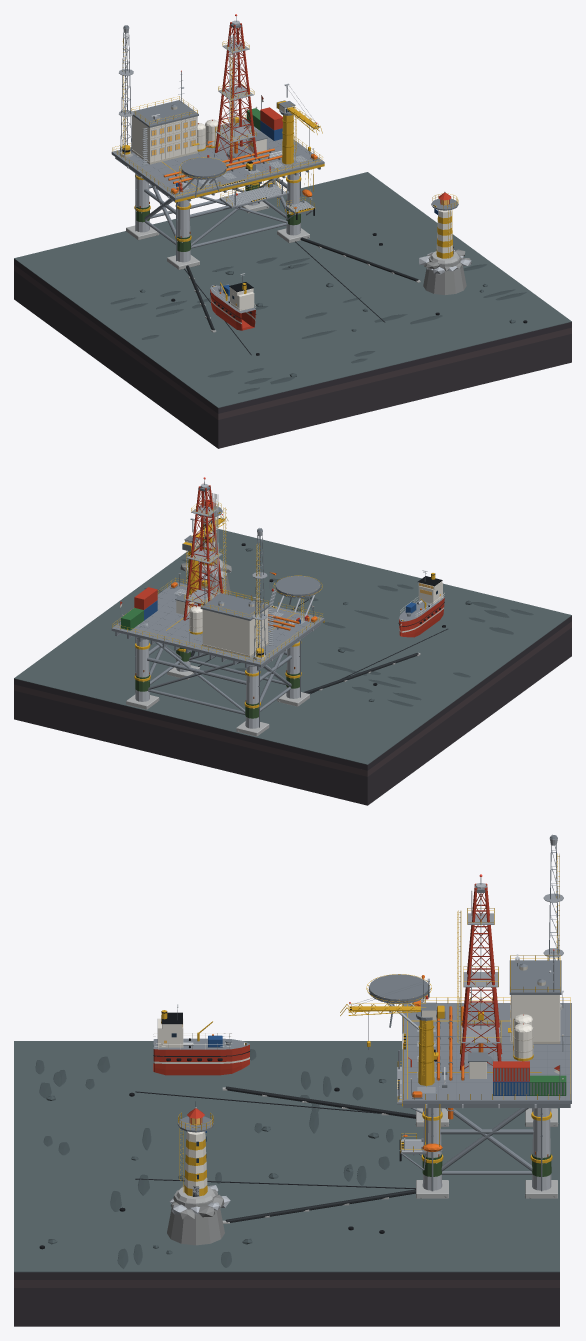
The model's file is Loc_Rig.fbx.
3 views of the same model, one above another, from view 1: azimuth 30°, elevation 25°; view 2: azimuth 150°, elevation 25°; view 3: azimuth 270°, elevation 25° (orthographic). The views are drawn at different scales.
Visible parts, largest first — view 1: Seabed, BlockRock, SteelDark, Deck, Yellow, Earth, White, Soil, Steel, Red, SeabedDark, Grating (+9 smaller); view 2: Seabed, BlockRock, SteelDark, Deck, Earth, Soil, White, Yellow, Red, Steel, SeabedDark, Grating (+6 smaller); view 3: Seabed, BlockRock, SteelDark, Deck, Yellow, White, Red, Earth, Soil, SeabedDark, Steel, Grating (+9 smaller).
Boxes of the visible parts, <box> form: Seabed: <box>14,172,571,407</box>; BlockRock: <box>14,271,571,448</box>; SteelDark: <box>115,16,458,296</box>; Deck: <box>111,119,324,313</box>; Yellow: <box>112,38,458,300</box>; Earth: <box>14,264,571,419</box>; White: <box>132,98,453,323</box>; Soil: <box>14,259,571,413</box>; Steel: <box>122,20,471,276</box>; Red: <box>178,22,451,330</box>; SeabedDark: <box>110,257,526,393</box>; Grating: <box>119,42,314,214</box>; Seabed: <box>14,529,571,764</box>; BlockRock: <box>14,627,571,805</box>; SteelDark: <box>115,479,425,727</box>; Deck: <box>111,582,444,667</box>; Earth: <box>14,621,571,776</box>; Soil: <box>14,616,571,770</box>; White: <box>120,512,444,655</box>; Yellow: <box>112,501,435,708</box>; Red: <box>120,485,444,637</box>; Steel: <box>122,483,426,728</box>; SeabedDark: <box>144,548,533,706</box>; Grating: <box>174,505,305,645</box>; Seabed: <box>14,1041,559,1272</box>; BlockRock: <box>14,1288,559,1326</box>; SteelDark: <box>177,834,570,1191</box>; Deck: <box>153,1003,571,1103</box>; Yellow: <box>161,853,570,1196</box>; White: <box>153,995,559,1188</box>; Red: <box>153,883,559,1124</box>; Earth: <box>14,1280,559,1287</box>; Soil: <box>14,1272,559,1279</box>; SeabedDark: <box>35,1049,393,1268</box>; Steel: <box>169,837,563,1214</box>; Grating: <box>397,893,563,1153</box>.
Bounding box in the file's own units: 90 × 63.18 × 92.
